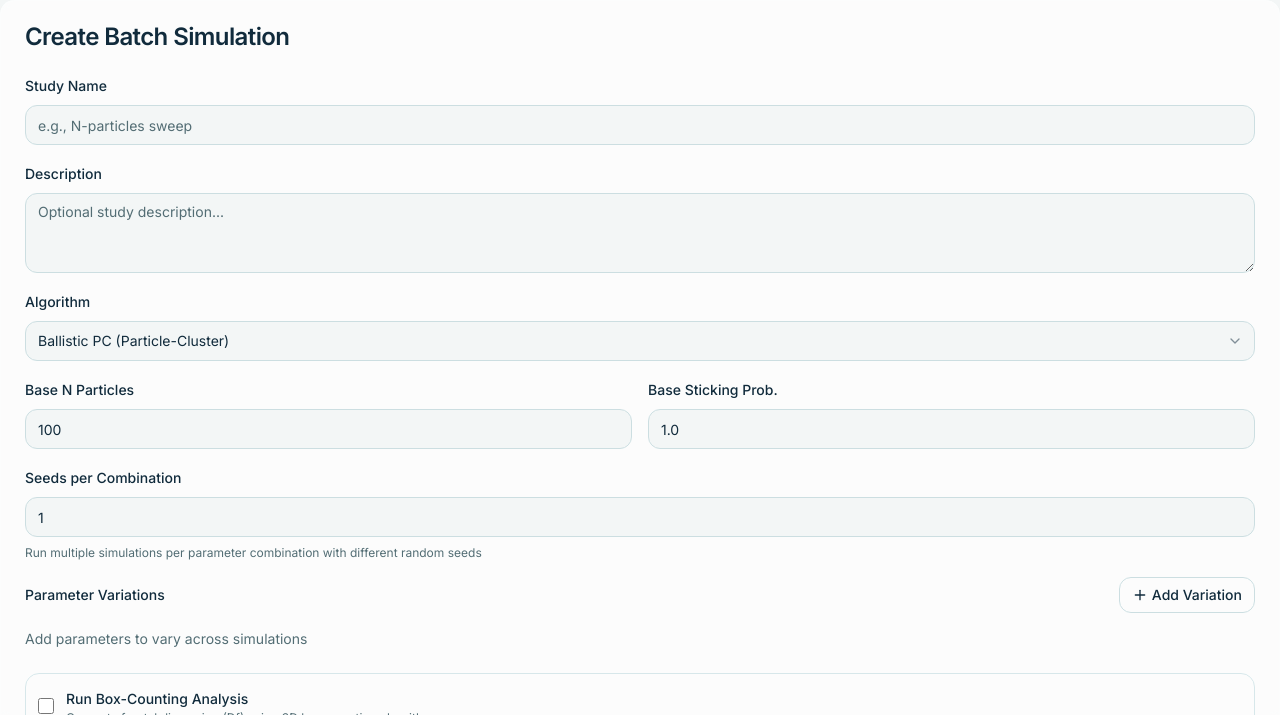
Test: BatchSimulationForm — new parameter grid options › selecting seed_type renders 3 toggle chips (monomers, dimers, trimers)
The image size is (1280, 715).
Select "Tunable CC (Cluster-Cluster)" in the dropdown at (640,341), box [25, 321, 1255, 361]
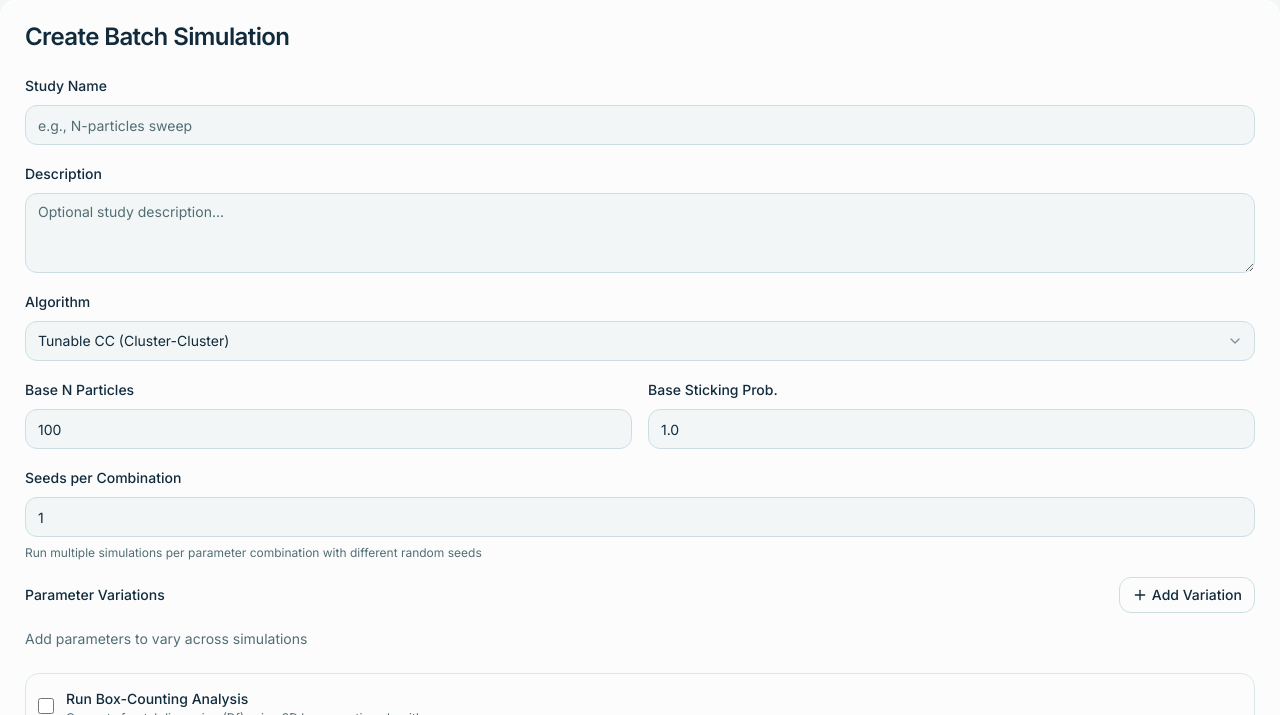
Click the button "Add Variation" at (1187,595), box [1119, 577, 1255, 613]
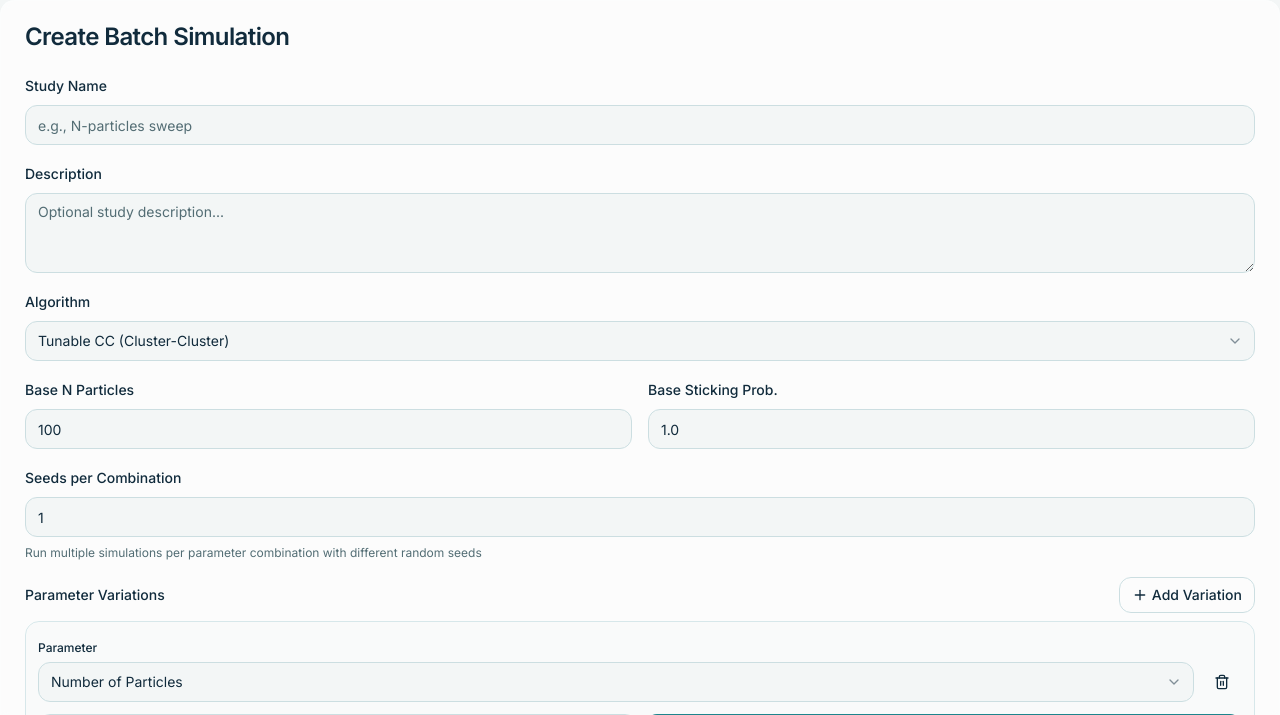
Select "Seed type (monomer/dimer/trimer)" in the dropdown below "Parameter Variations" at (616,682), box [38, 662, 1194, 702]
(page scrolled)
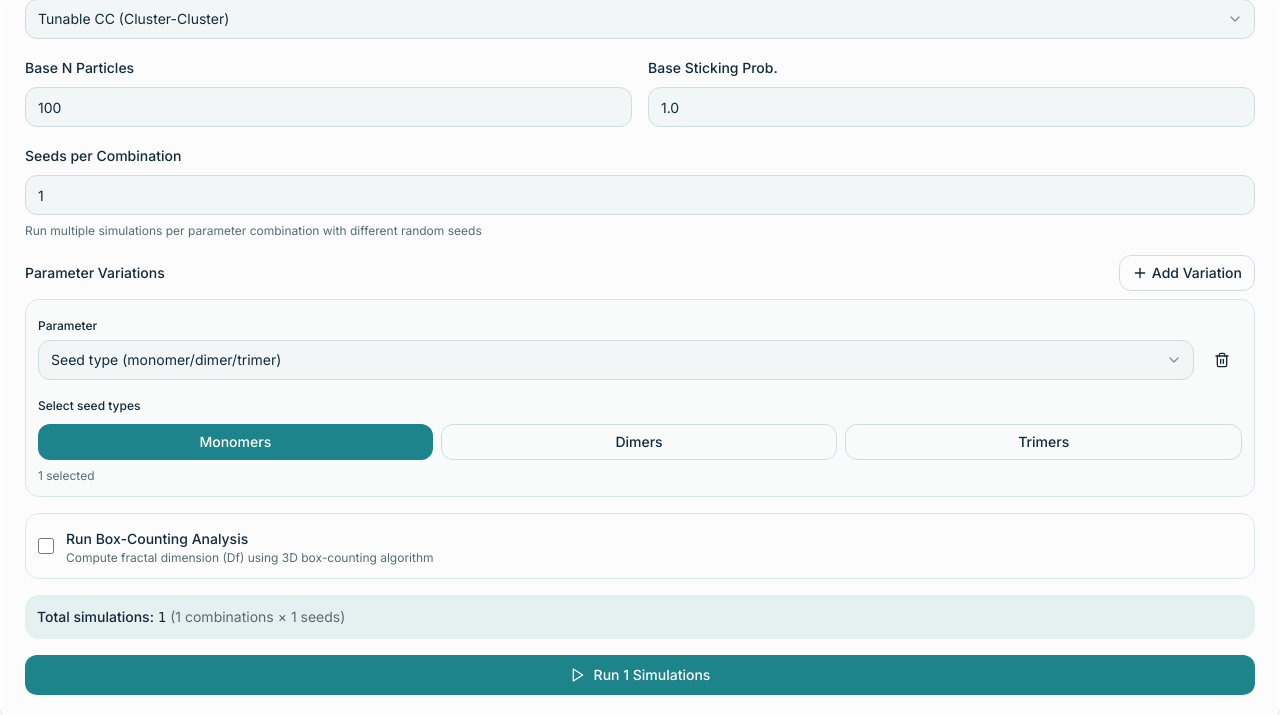
Check: the button "monomers" is shown, box [38, 424, 433, 460]
Check: the button "dimers" is shown, box [441, 424, 837, 460]
Check: the button "trimers" is shown, box [845, 424, 1242, 460]
